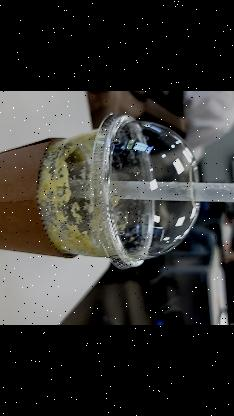Others: (0, 114, 203, 281), (89, 110, 203, 270), (65, 179, 234, 199)
